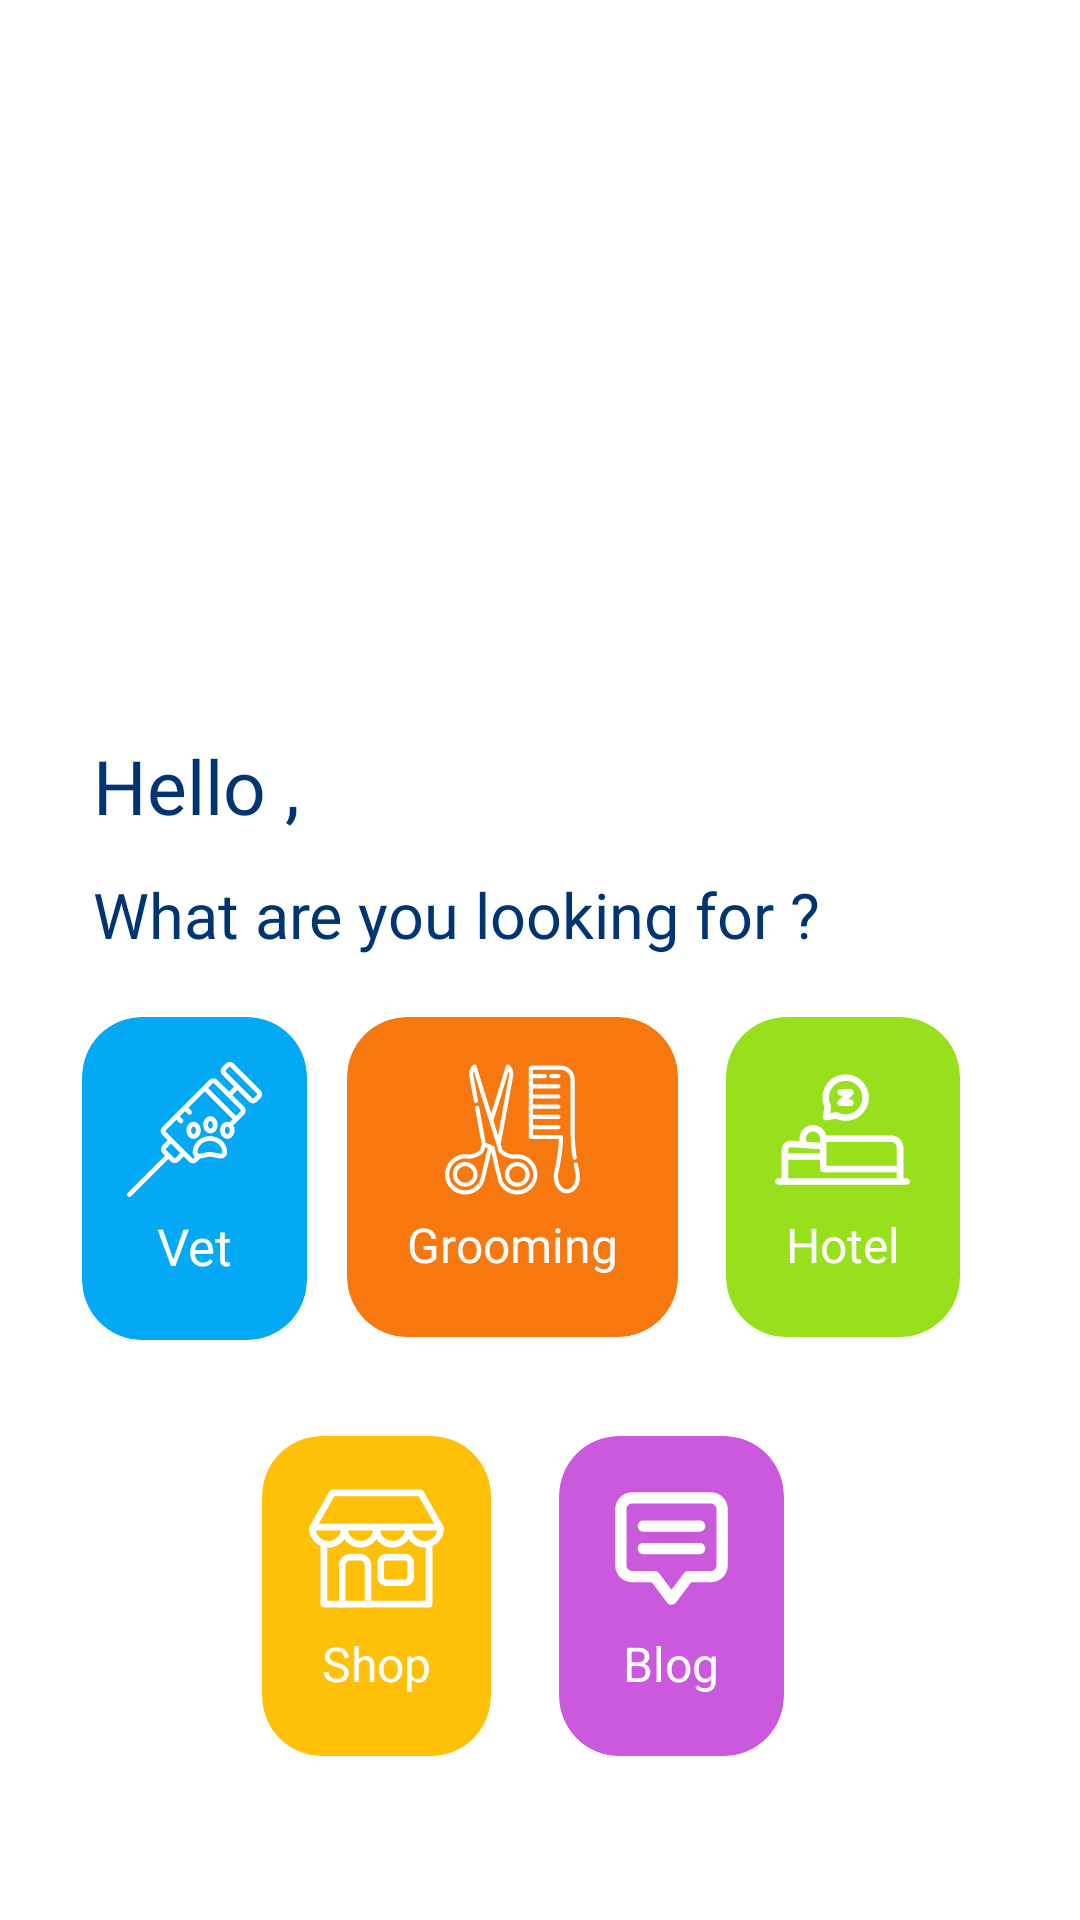

Where icons sit on this 1080px x 1920px app screen, as (x1, y1, x2, y2):
syringe: (127, 1062, 262, 1197)
